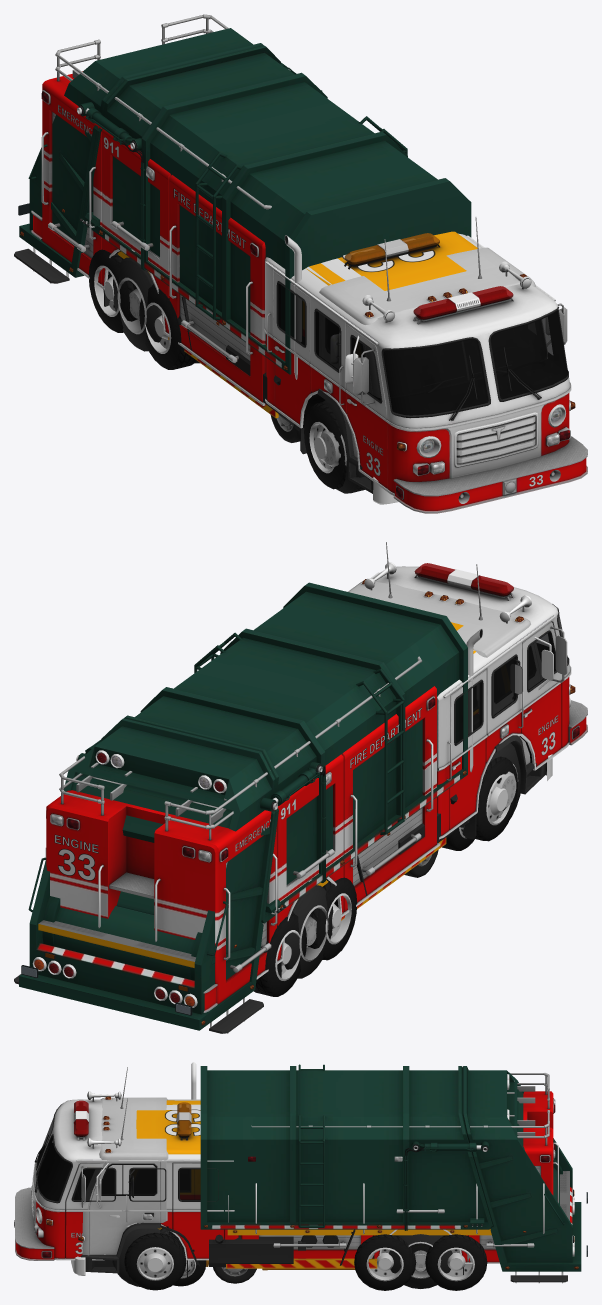
Rendered from civil.glb.
The picture shows the model from 3 angles, top to bottom: view 1: azimuth 30°, elevation 25°; view 2: azimuth 150°, elevation 25°; view 3: azimuth 270°, elevation 25°; orthographic projection. The views are drawn at different scales.
Visible parts, largest first — view 1: garbage-truck_part_10, fire-truck_part_10, fire-truck_part_11, garbage-truck_part_11, tow-truck_part_10, fire-truck_part_130, garbage-truck_part_194, garbage-truck_part_188, garbage-truck_part_202, fire-truck_part_13, fire-truck_part_12, fire-truck_part_121 (+2 smaller); view 2: garbage-truck_part_10, fire-truck_part_10, tow-truck_part_10, fire-truck_part_11, garbage-truck_part_188, fire-truck_part_130, garbage-truck_part_194, garbage-truck_part_202, fire-truck_part_13, fire-truck_part_12, fire-truck_part_121, garbage-truck_part_12; view 3: garbage-truck_part_10, fire-truck_part_10, tow-truck_part_10, fire-truck_part_11, garbage-truck_part_191, garbage-truck_part_206, garbage-truck_part_198, fire-truck_part_127, garbage-truck_part_11, fire-truck_part_124, fire-truck_part_13, tow-truck_part_113 (+4 smaller).
Part boxes in pixels (<box>): garbage-truck_part_10: <box>14,28,550,504</box>; fire-truck_part_10: <box>31,14,587,513</box>; fire-truck_part_11: <box>278,284,567,415</box>; garbage-truck_part_11: <box>328,320,544,396</box>; tow-truck_part_10: <box>117,231,477,418</box>; fire-truck_part_130: <box>113,257,161,351</box>; garbage-truck_part_194: <box>139,284,199,369</box>; garbage-truck_part_188: <box>304,402,346,489</box>; garbage-truck_part_202: <box>88,249,137,332</box>; fire-truck_part_13: <box>58,104,543,486</box>; fire-truck_part_12: <box>413,286,513,319</box>; fire-truck_part_121: <box>319,400,365,493</box>; garbage-truck_part_10: <box>14,581,553,1033</box>; fire-truck_part_10: <box>45,542,587,1012</box>; tow-truck_part_10: <box>38,622,522,967</box>; fire-truck_part_11: <box>455,615,567,742</box>; garbage-truck_part_188: <box>475,756,517,841</box>; fire-truck_part_130: <box>284,885,333,978</box>; garbage-truck_part_194: <box>308,877,357,960</box>; garbage-truck_part_202: <box>254,912,306,996</box>; fire-truck_part_13: <box>54,707,558,880</box>; fire-truck_part_12: <box>414,563,513,596</box>; fire-truck_part_121: <box>489,743,520,818</box>; garbage-truck_part_12: <box>35,579,523,1024</box>; garbage-truck_part_10: <box>71,1062,581,1283</box>; fire-truck_part_10: <box>14,1067,558,1278</box>; tow-truck_part_10: <box>128,1100,569,1268</box>; fire-truck_part_11: <box>37,1118,200,1201</box>; garbage-truck_part_191: <box>124,1231,186,1290</box>; garbage-truck_part_206: <box>425,1234,487,1290</box>; garbage-truck_part_198: <box>354,1234,416,1290</box>; fire-truck_part_127: <box>389,1234,452,1288</box>; garbage-truck_part_11: <box>78,1165,154,1197</box>; fire-truck_part_124: <box>112,1228,174,1286</box>; fire-truck_part_13: <box>71,1109,200,1254</box>; tow-truck_part_113: <box>173,1239,206,1286</box>.
Size of the model in its own units: 2.63 by 2.93 by 8.59.
23 materials, 22 textured.
